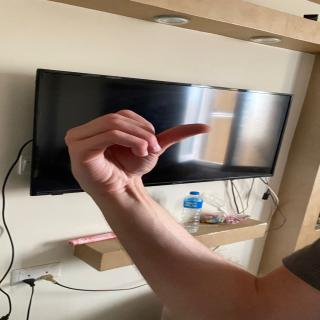WAW: (52, 101, 214, 185)
